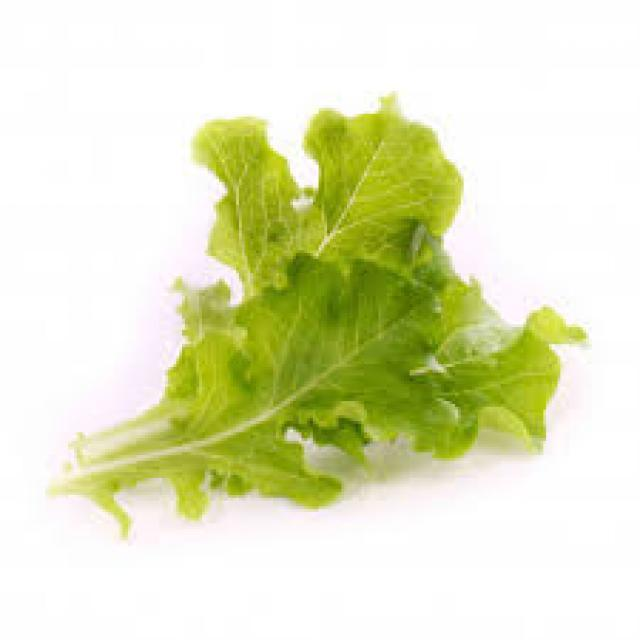Lettuce: (44, 94, 592, 542)
